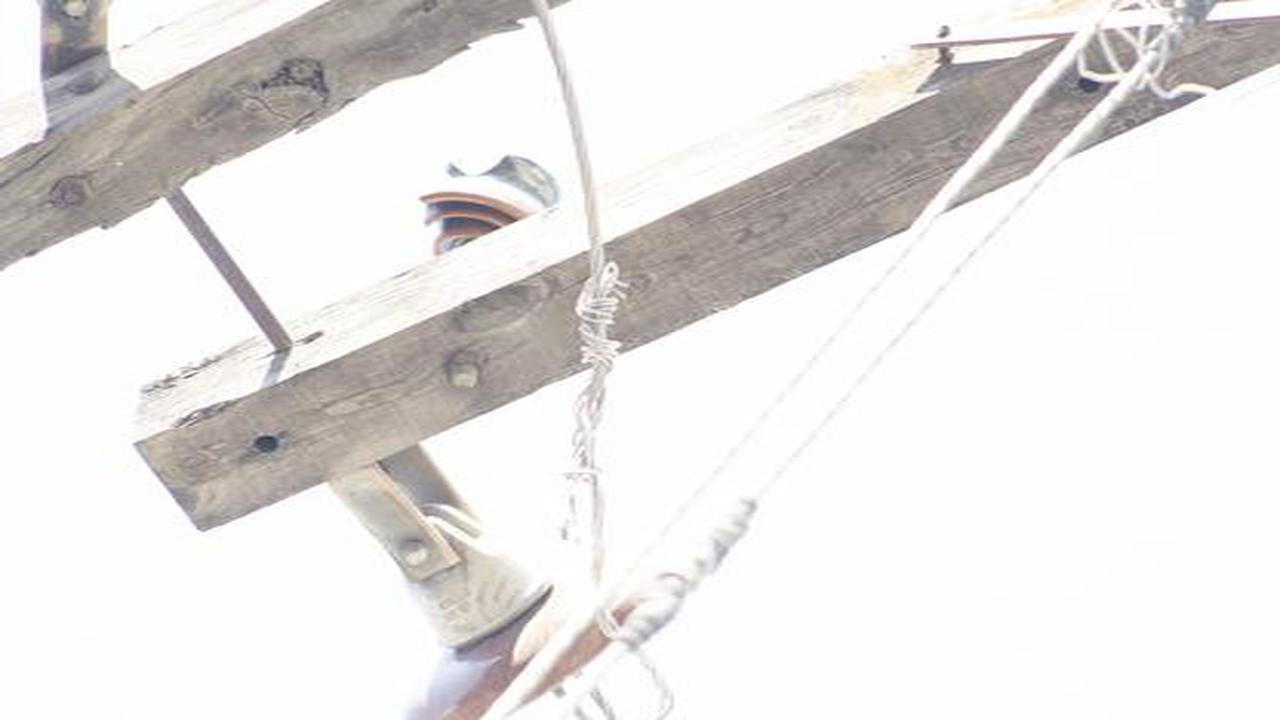defect_pin: (410, 150, 560, 245)
insulator_disc: (407, 555, 641, 701)
